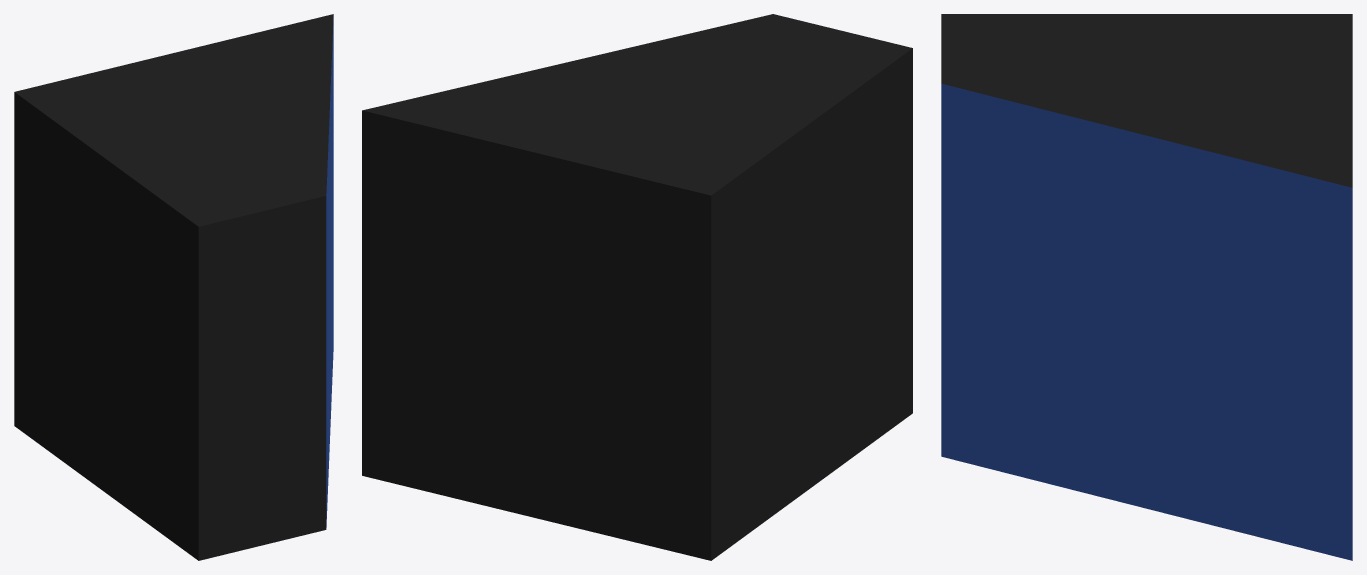
File: PM-Wall.fbx
The picture shows the model from 3 angles, left to right: view 1: azimuth 30°, elevation 25°; view 2: azimuth 150°, elevation 25°; view 3: azimuth 270°, elevation 25°; orthographic projection. The views are drawn at different scales.
Parts seen in each view (by area): view 1: Cube; view 2: Cube; view 3: Cube.
Part boxes in pixels (box(x1,y1,x2,y2)): Cube: box(14, 14, 333, 560); Cube: box(362, 14, 912, 560); Cube: box(941, 14, 1352, 560).
Bounding box in the file's own units: 2 × 2 × 2.
